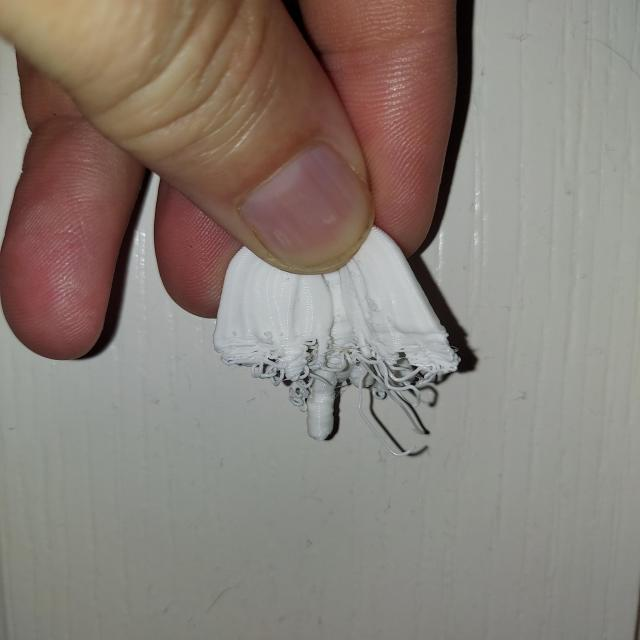spaghetti: (215, 343, 461, 438)
